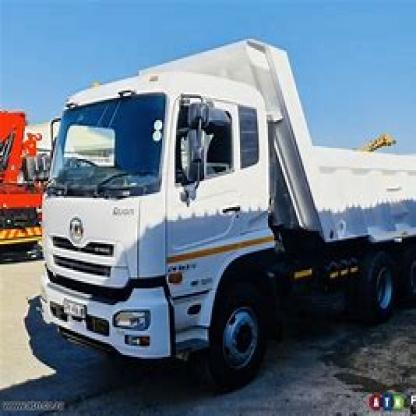dump_truck: (24, 29, 414, 381)
